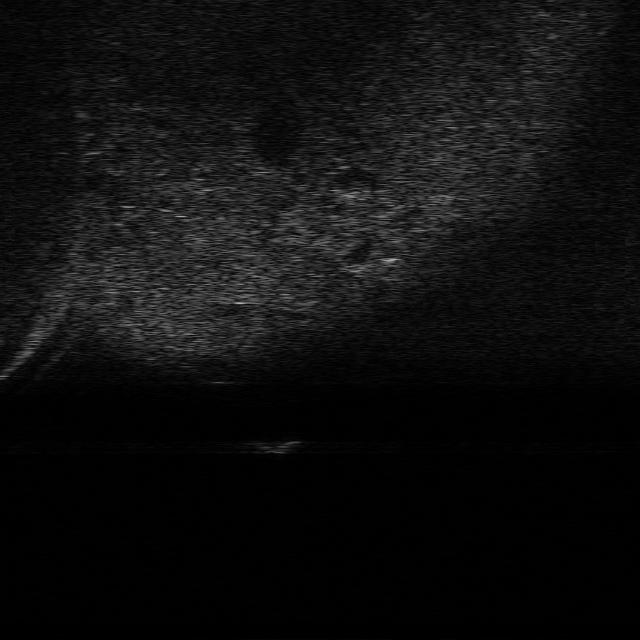cube: (249, 432, 300, 458)
